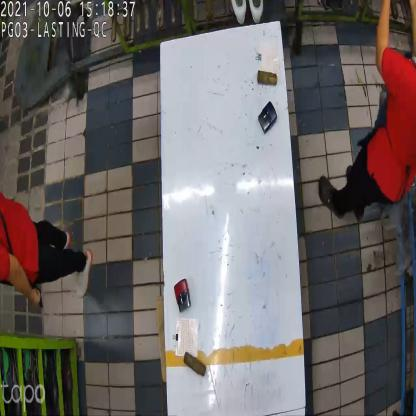stamp: (174, 280, 192, 316), (258, 102, 277, 136)
